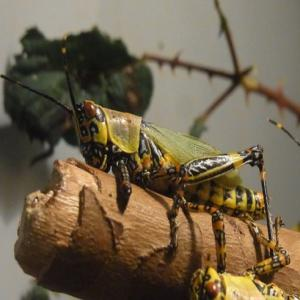locust: (52, 73, 275, 239)
